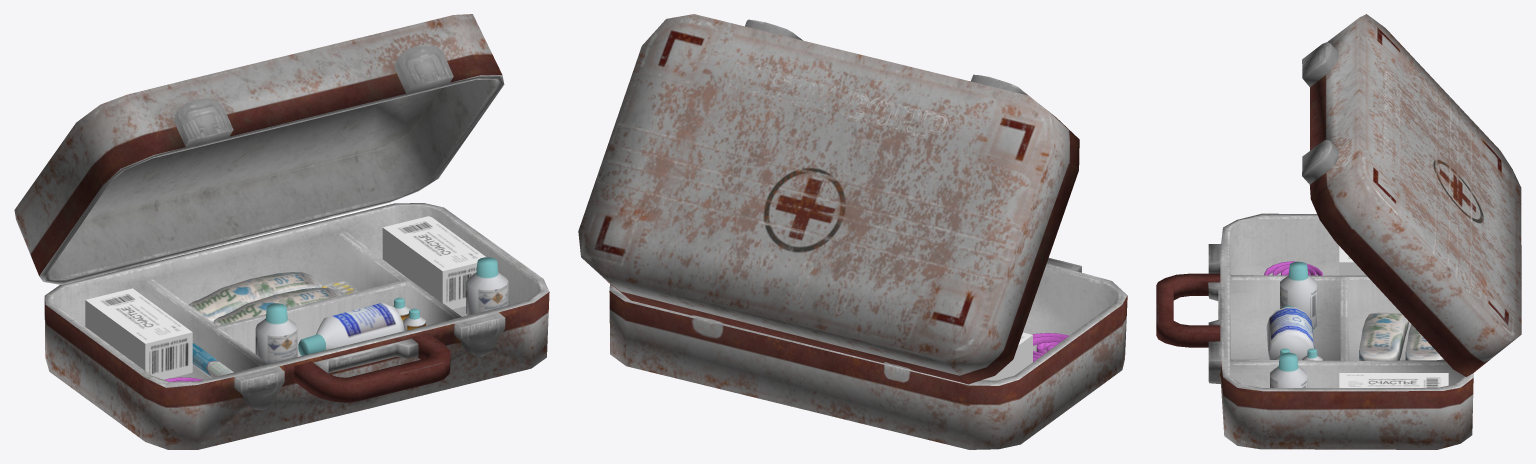
File: first_aid_kit.glb
3 views of the same model, side by side, from view 1: azimuth 30°, elevation 25°; view 2: azimuth 150°, elevation 25°; view 3: azimuth 270°, elevation 25° (orthographic). The views are drawn at different scales.
Parts seen in each view (by area): view 1: Body2_low, Body22_low, ruchka_low, ExtrToBrep_000006_low, ExtrToBrep_000006_low001, butl_3_low, bint_low001, butl_low, butl_low002, bint_low, shpric_low001; view 2: Body2_low, Body22_low, ExtrToBrep_000006_low, zhgut_low; view 3: Body2_low, Body22_low, ruchka_low, bint_low, butl_3_low, ExtrToBrep_000006_low001, butl_low, butl_low002, bint_low001, ExtrToBrep_000006_low, zhgut_low.
Part boxes in pixels (x1,y1,x2,y2): Body2_low: [14, 14, 504, 284]; Body22_low: [44, 203, 549, 449]; ruchka_low: [294, 333, 450, 402]; ExtrToBrep_000006_low: [85, 288, 192, 379]; ExtrToBrep_000006_low001: [382, 216, 486, 309]; butl_3_low: [298, 302, 404, 355]; bint_low001: [189, 272, 322, 322]; butl_low: [255, 303, 297, 363]; butl_low002: [466, 257, 508, 315]; bint_low: [213, 287, 341, 325]; shpric_low001: [192, 342, 233, 377]; Body2_low: [578, 14, 1079, 384]; Body22_low: [609, 258, 1127, 449]; ExtrToBrep_000006_low: [982, 332, 1032, 380]; zhgut_low: [1032, 333, 1068, 361]; Body2_low: [1302, 14, 1521, 376]; Body22_low: [1208, 213, 1473, 449]; ruchka_low: [1156, 273, 1220, 347]; bint_low: [1359, 312, 1408, 360]; butl_3_low: [1266, 305, 1314, 360]; ExtrToBrep_000006_low001: [1339, 373, 1448, 387]; butl_low: [1280, 261, 1316, 329]; butl_low002: [1270, 352, 1307, 387]; bint_low001: [1405, 324, 1443, 360]; ExtrToBrep_000006_low: [1339, 246, 1366, 275]; zhgut_low: [1264, 261, 1322, 275].
Size of the model in its own units: 2 by 1.46 by 1.74.
Materials: 1 (1 with a texture image).
